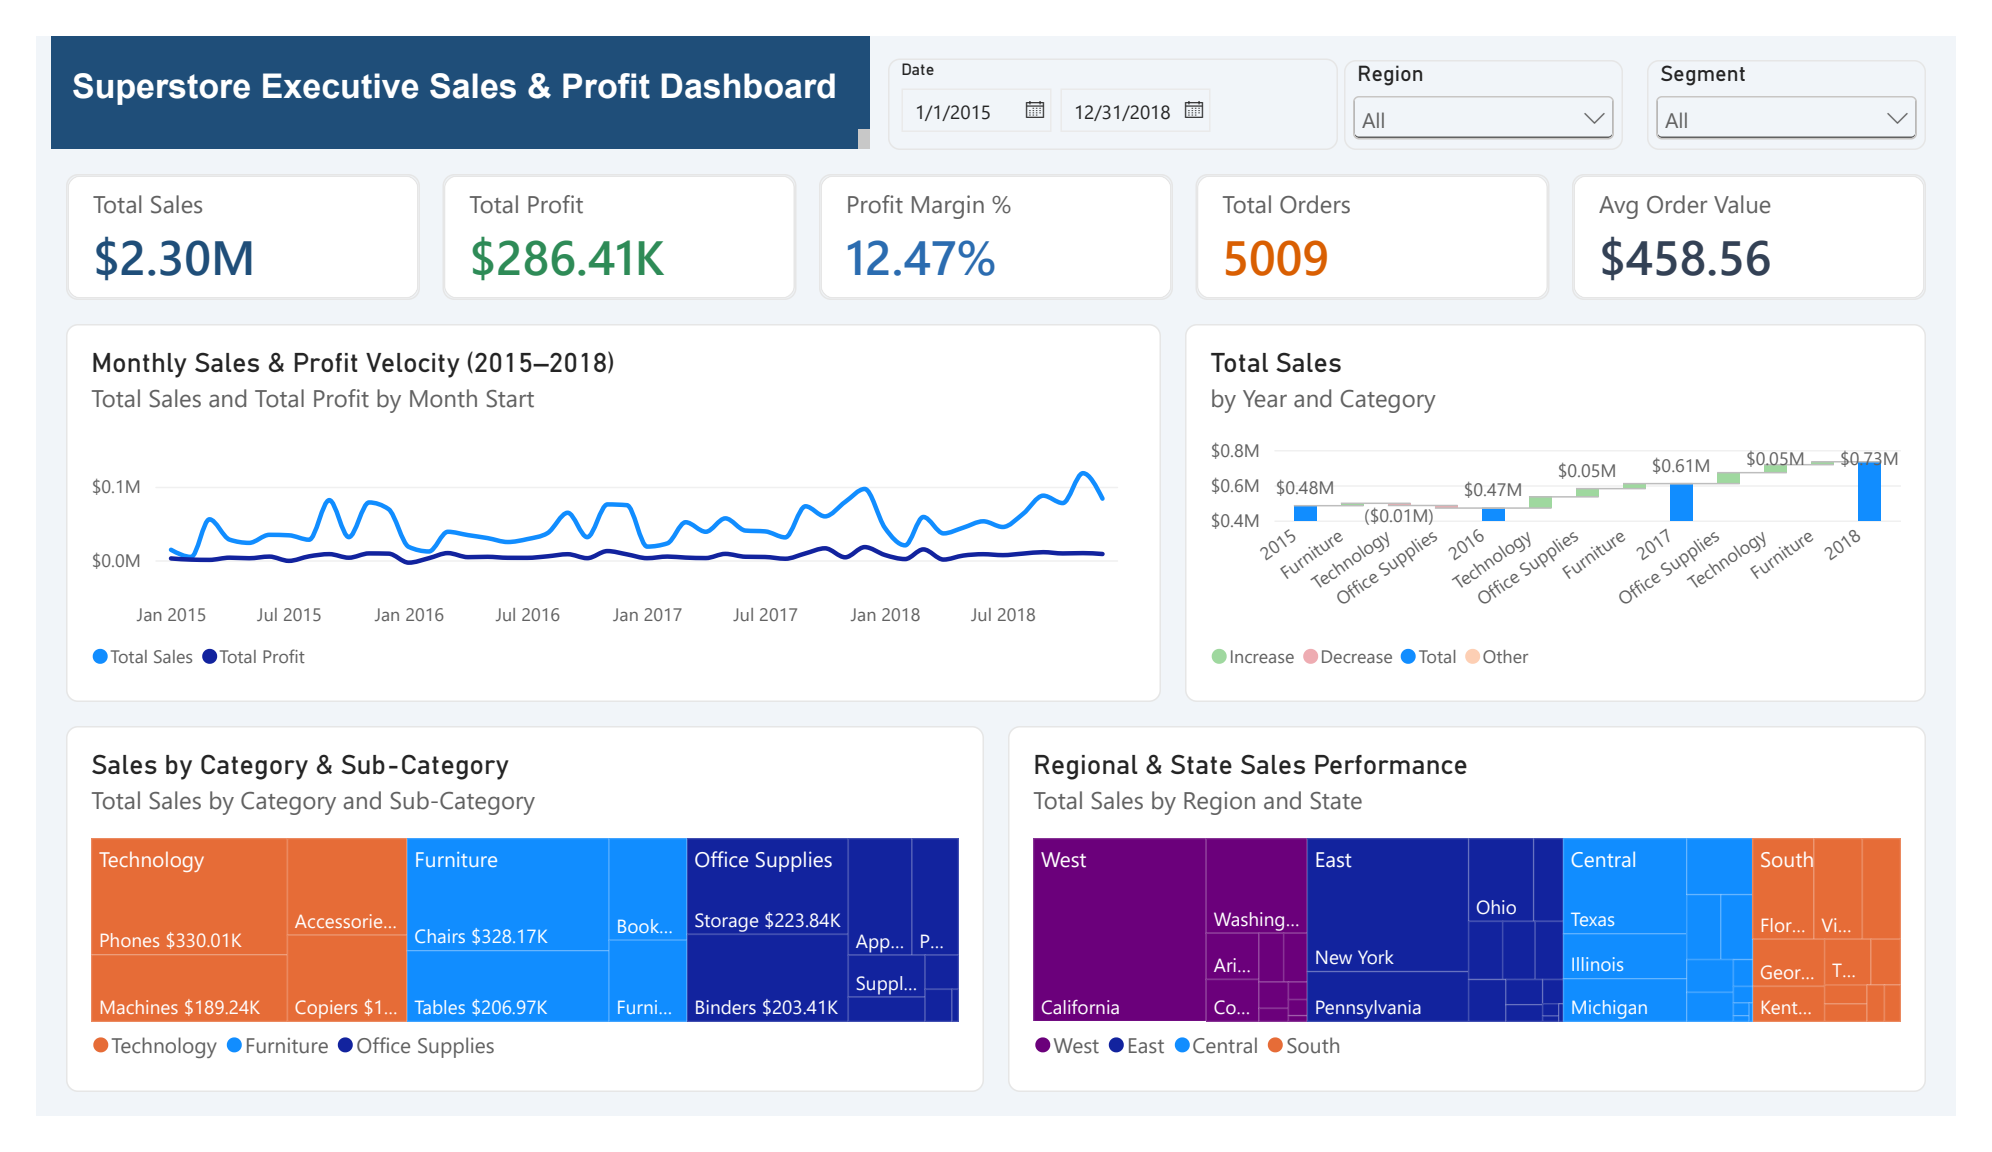

Layout of this report page (visuals, bound fields, positions):
{"tool":"powerbi","page":{"name":"Executive Overview","canvas":[1280,720],"ordinal":0},"visuals":[{"type":"textbox","title":" Superstore Executive Sales & Profit Dashboard","box":[9.6,0,546.9,74.6],"z":0},{"type":"slicer","fields":{"Values":["Dim_Date.Date"]},"box":[568,15.3,300.2,61],"z":1000},{"type":"slicer","fields":{"Values":["Fact_Orders.Region"]},"box":[872,16,186,60],"z":2000},{"type":"slicer","fields":{"Values":["Dim_Customer.Segment"]},"box":[1074,16,186,60],"z":3000},{"type":"cardVisual","fields":{"Data":["_Measure.Total Sales"]},"box":[20,92,236,84],"z":4000},{"type":"cardVisual","fields":{"Data":["_Measure.Total Profit"]},"box":[271,92,236,84],"z":5000},{"type":"cardVisual","fields":{"Data":["_Measure.Profit Margin %"]},"box":[522,92,236,84],"z":6000},{"type":"cardVisual","fields":{"Data":["_Measure.Total Orders"]},"box":[773,92,236,84],"z":7000},{"type":"cardVisual","fields":{"Data":["_Measure.Avg Order Value"]},"box":[1024,92,236,84],"z":8000},{"type":"lineChart","title":"Monthly Sales & Profit Velocity (2015–2018)","fields":{"Category":["Dim_Date.Month Start"],"Y":["_Measure.Total Sales","_Measure.Total Profit"]},"box":[20,192,730,252],"z":9000},{"type":"waterfallChart","fields":{"Breakdown":["Dim_Product.Category"],"Category":["Dim_Date.Year"],"Y":["_Measure.Total Sales"]},"box":[766,192,494,252],"z":10000},{"type":"treemap","title":"Sales by Category & Sub-Category","fields":{"Details":["Dim_Product.Sub-Category"],"Group":["Dim_Product.Category"],"Values":["_Measure.Total Sales"]},"box":[20,460,612,244],"z":11000},{"type":"treemap","title":"Regional & State Sales Performance","fields":{"Details":["Fact_Orders.State"],"Group":["Fact_Orders.Region"],"Values":["_Measure.Total Sales"]},"box":[648,460,612,244],"z":12000}]}

Visuals, with their boxes in screenshot pixels (x1, y1, x2, y2), scaled from the page's 1280x720 canvas onto the 1992x1152 screenshot:
" Superstore Executive Sales & Profit Dashboard" textbox: <bbox>15, 0, 866, 119</bbox>
slicer - Dim_Date.Date: <bbox>884, 24, 1351, 122</bbox>
slicer - Fact_Orders.Region: <bbox>1357, 26, 1647, 122</bbox>
slicer - Dim_Customer.Segment: <bbox>1671, 26, 1961, 122</bbox>
cardVisual - _Measure.Total Sales: <bbox>31, 147, 398, 282</bbox>
cardVisual - _Measure.Total Profit: <bbox>422, 147, 789, 282</bbox>
cardVisual - _Measure.Profit Margin %: <bbox>812, 147, 1180, 282</bbox>
cardVisual - _Measure.Total Orders: <bbox>1203, 147, 1570, 282</bbox>
cardVisual - _Measure.Avg Order Value: <bbox>1594, 147, 1961, 282</bbox>
"Monthly Sales & Profit Velocity (2015–2018)" lineChart: <bbox>31, 307, 1167, 710</bbox>
waterfallChart - Dim_Product.Category x Dim_Date.Year: <bbox>1192, 307, 1961, 710</bbox>
"Sales by Category & Sub-Category" treemap: <bbox>31, 736, 984, 1126</bbox>
"Regional & State Sales Performance" treemap: <bbox>1008, 736, 1961, 1126</bbox>
